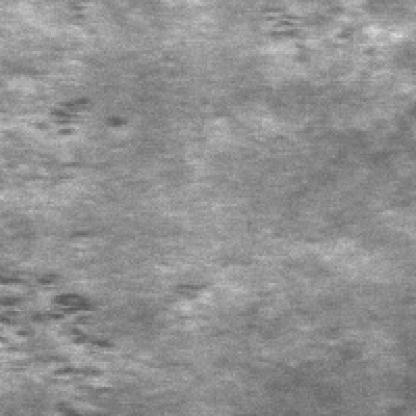rolled-in_scale: (2, 240, 144, 412), (250, 2, 416, 83), (4, 94, 142, 156)
